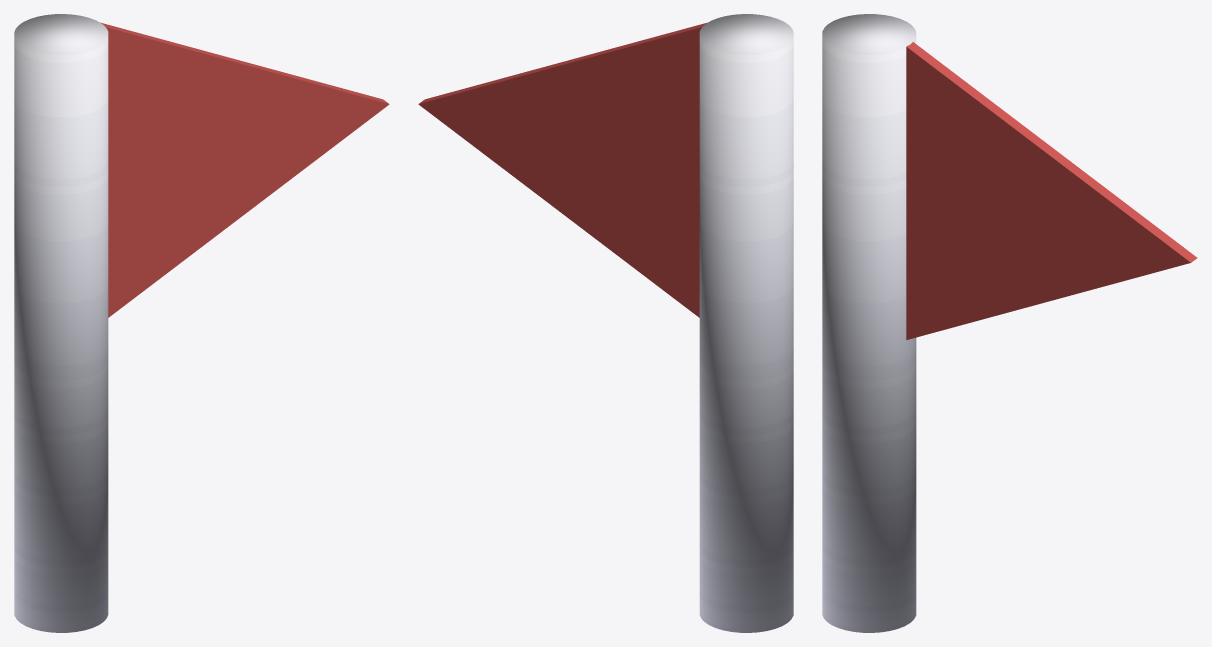
File: flag.glb
3 renders of one model, left to right at view 1: azimuth 30°, elevation 25°; view 2: azimuth 150°, elevation 25°; view 3: azimuth 330°, elevation 25°, orthographic.
Parts seen in each view (by area): view 1: Pole; view 2: Pole; view 3: Pole.
Boxes of the visible parts, left/top/right/bottom form: Pole: left=14, top=14, right=389, bottom=632; Pole: left=418, top=14, right=793, bottom=632; Pole: left=822, top=14, right=1197, bottom=632.
Bounding box in the file's own units: 0.4666 × 0.7056 × 0.1043.
Materials: 1 (1 with a texture image).
